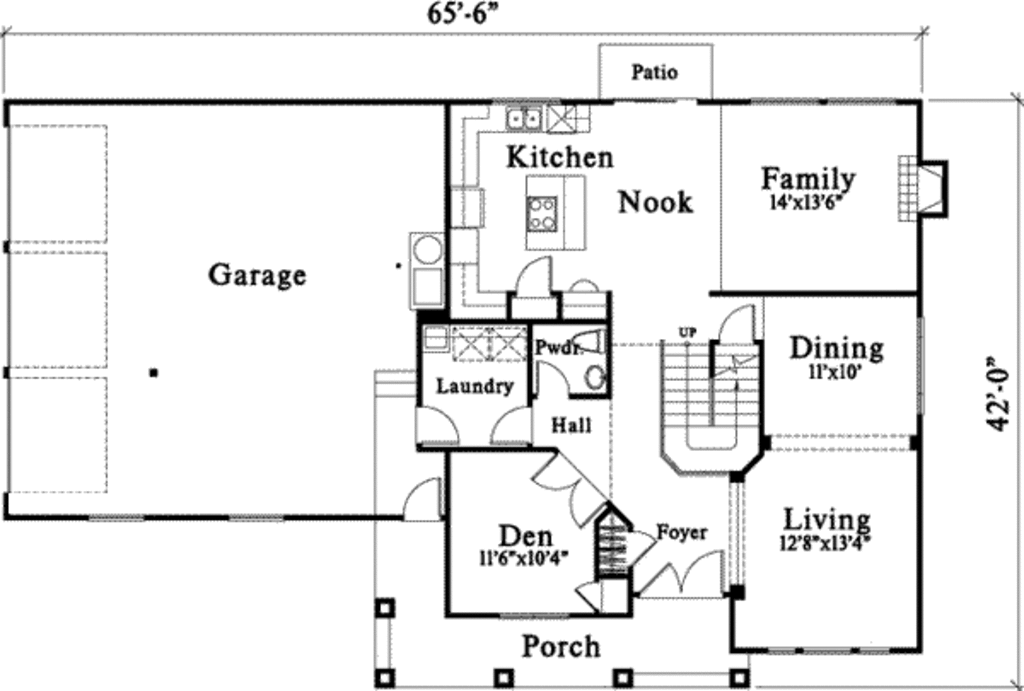door: (631, 546, 730, 606), (527, 451, 604, 528), (507, 243, 559, 301), (411, 401, 463, 454), (488, 402, 540, 453), (397, 472, 442, 528), (534, 361, 574, 409), (561, 575, 604, 614), (629, 524, 663, 570)
kitchen_bar: (521, 168, 602, 253)
large_sink: (559, 324, 613, 363)
small_sink: (573, 363, 606, 401)
stairs: (661, 333, 770, 478)
twin_sink: (486, 100, 555, 142)
window: (915, 311, 932, 426), (226, 508, 288, 530), (90, 512, 140, 525)
